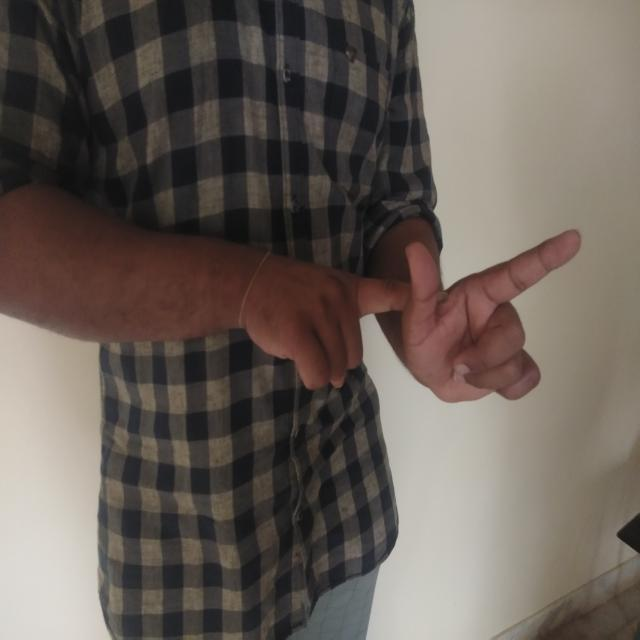Y: (241, 210, 599, 432)
